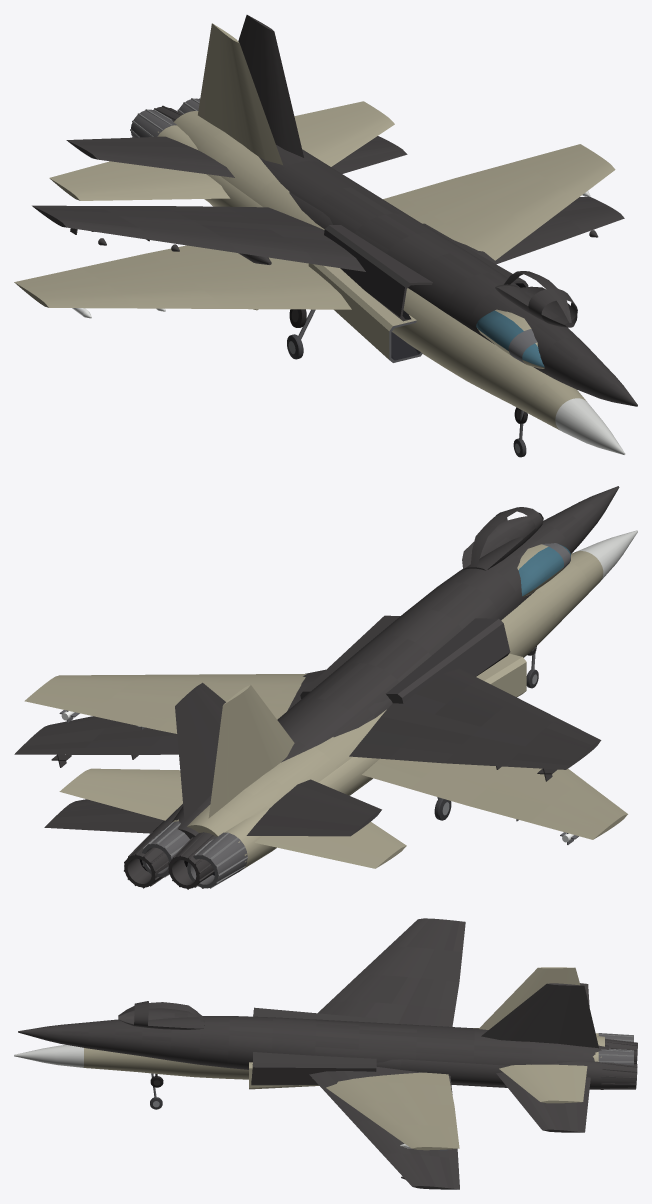
The model's file is attackJet__su_24mk.glb.
3 views of the same model, one above another, from view 1: azimuth 30°, elevation 25°; view 2: azimuth 150°, elevation 25°; view 3: azimuth 270°, elevation 25° (orthographic). The views are drawn at different scales.
Parts seen in each view (by area): view 1: Fuselage_Mesh, Wreck; view 2: Wreck, Fuselage_Mesh; view 3: Wreck, Fuselage_Mesh.
Boxes of the visible parts, x1=… form: Fuselage_Mesh: x1=14, y1=23, x2=625, y2=457; Wreck: x1=32, y1=15, x2=637, y2=423; Wreck: x1=14, y1=486, x2=619, y2=889; Fuselage_Mesh: x1=24, y1=530, x2=637, y2=888; Wreck: x1=18, y1=918, x2=637, y2=1189; Fuselage_Mesh: x1=14, y1=967, x2=633, y2=1150.
Size of what is drawn, in the model's own units: 17.96 by 6.19 by 24.74.
